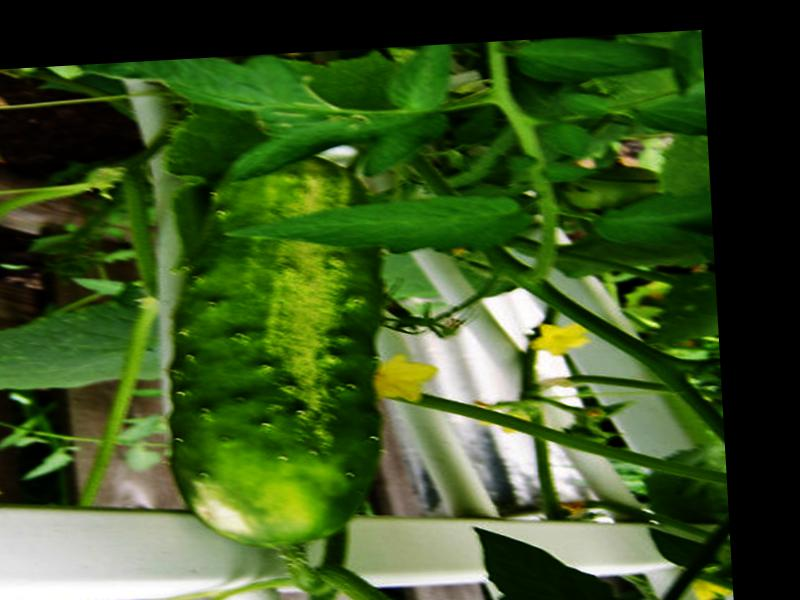Cucumber: (157, 157, 387, 552)
